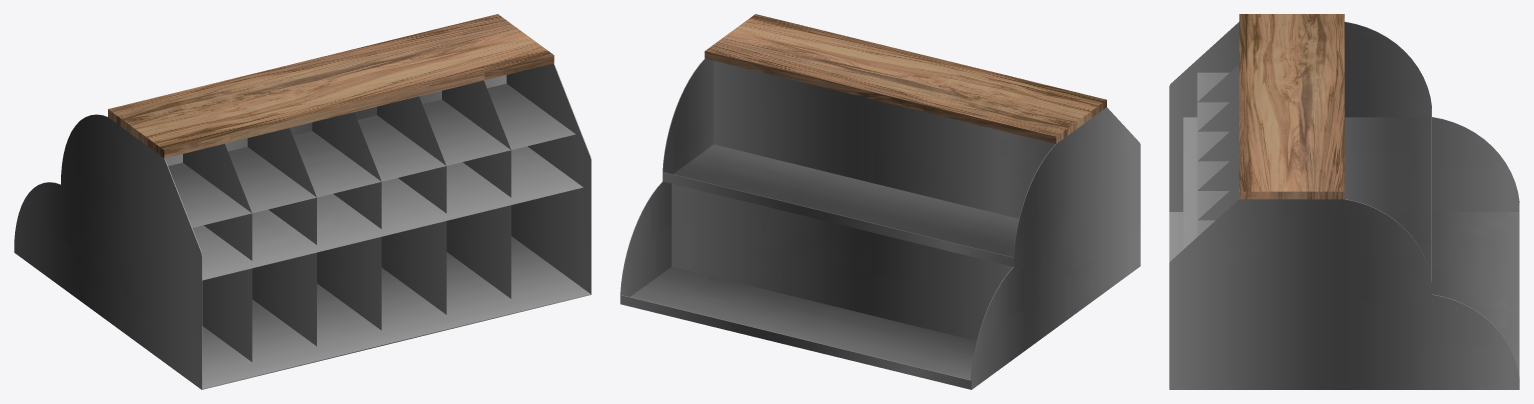
File: display_stand.glb
3 renders of one model, left to right at view 1: azimuth 30°, elevation 25°; view 2: azimuth 150°, elevation 25°; view 3: azimuth 270°, elevation 25°, orthographic. The views are drawn at different scales.
Parts seen in each view (by area): view 1: Material2, Material3; view 2: Material2, Material3; view 3: Material2, Material3.
Boxes of the visible parts, left/top/right/bottom form: Material2: left=14, top=63, right=591, bottom=389; Material3: left=108, top=14, right=554, bottom=158; Material2: left=620, top=58, right=1140, bottom=389; Material3: left=704, top=14, right=1106, bottom=143; Material2: left=1169, top=21, right=1519, bottom=389; Material3: left=1239, top=14, right=1344, bottom=199.
Size of the model in its own units: 23.62 by 12.28 by 19.69.
3 materials, 3 textured.
